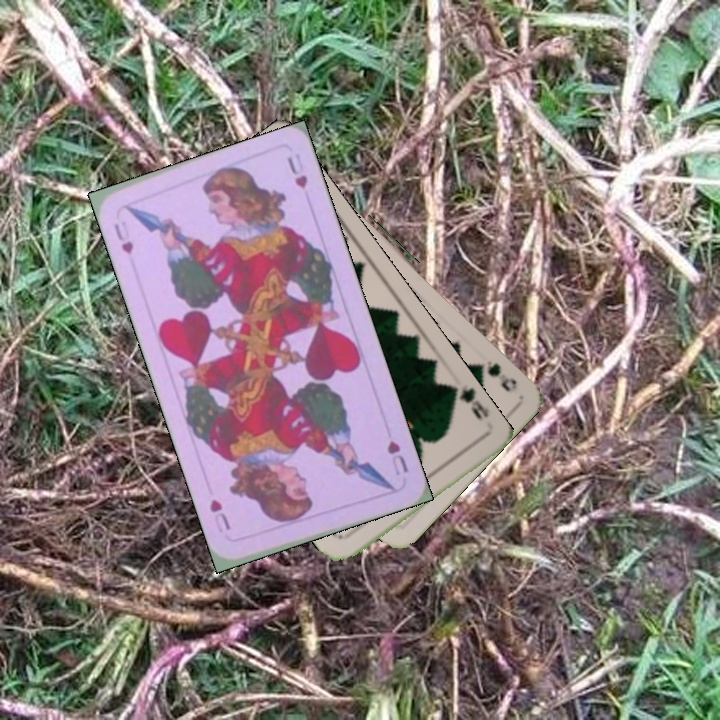G9: (447, 382, 492, 422), (474, 356, 520, 393)
HU: (383, 436, 411, 478), (110, 216, 136, 257)
